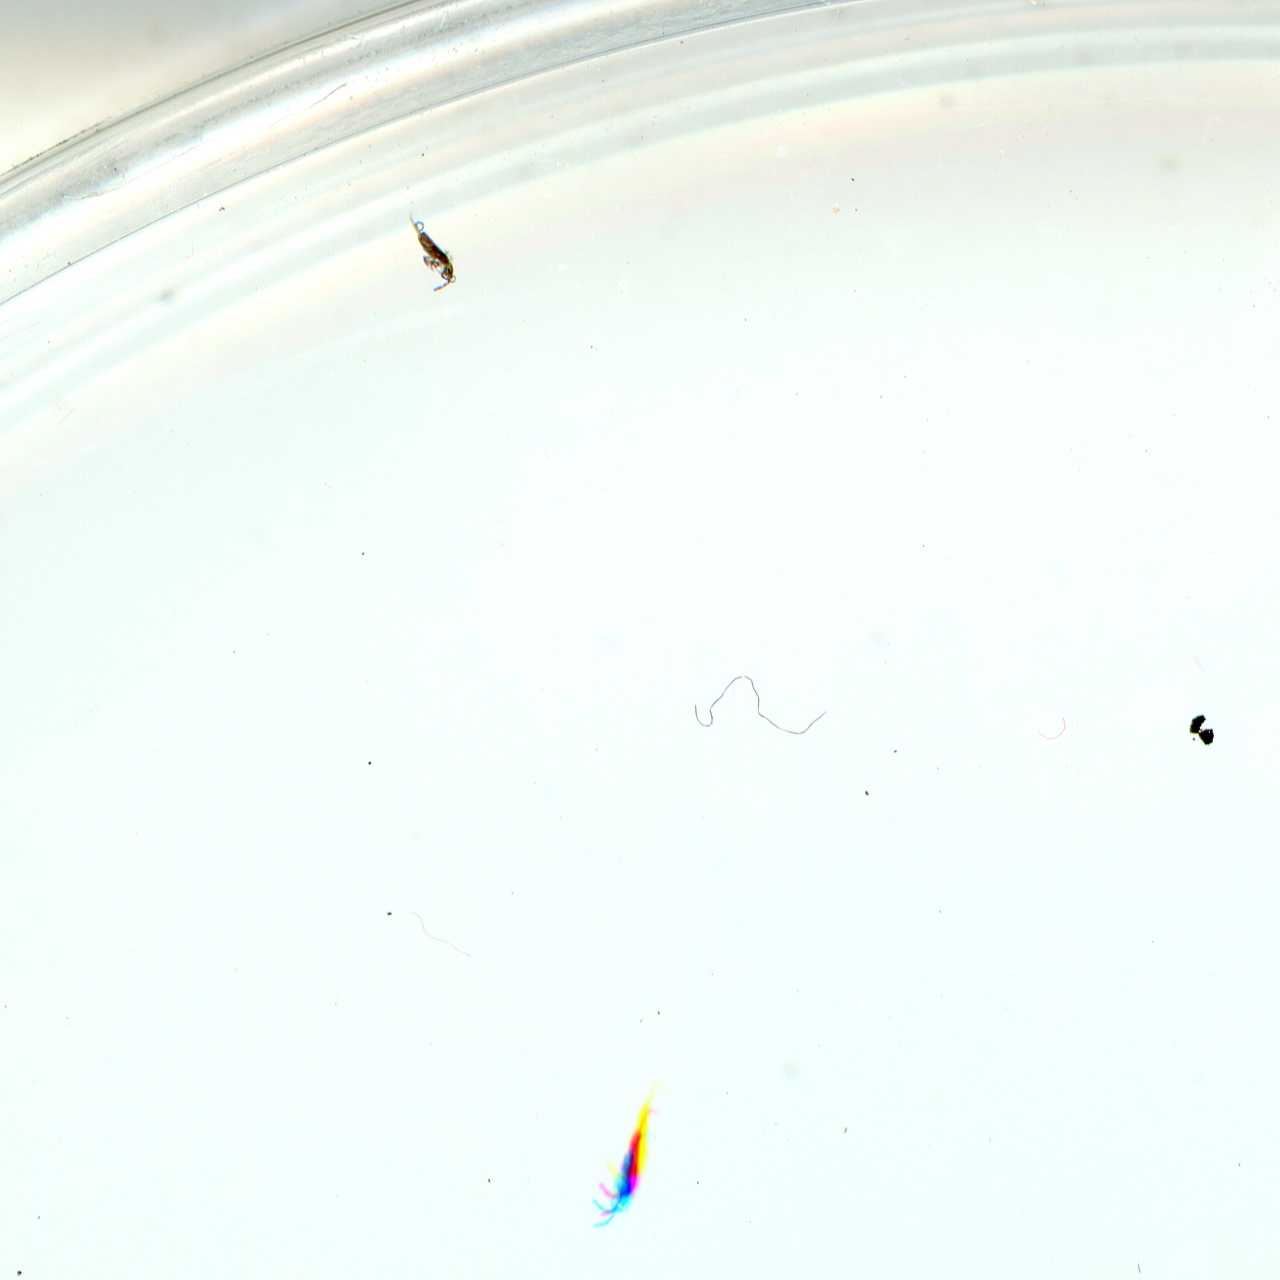arthropod: (570, 1063, 685, 1250), (382, 199, 475, 302)
